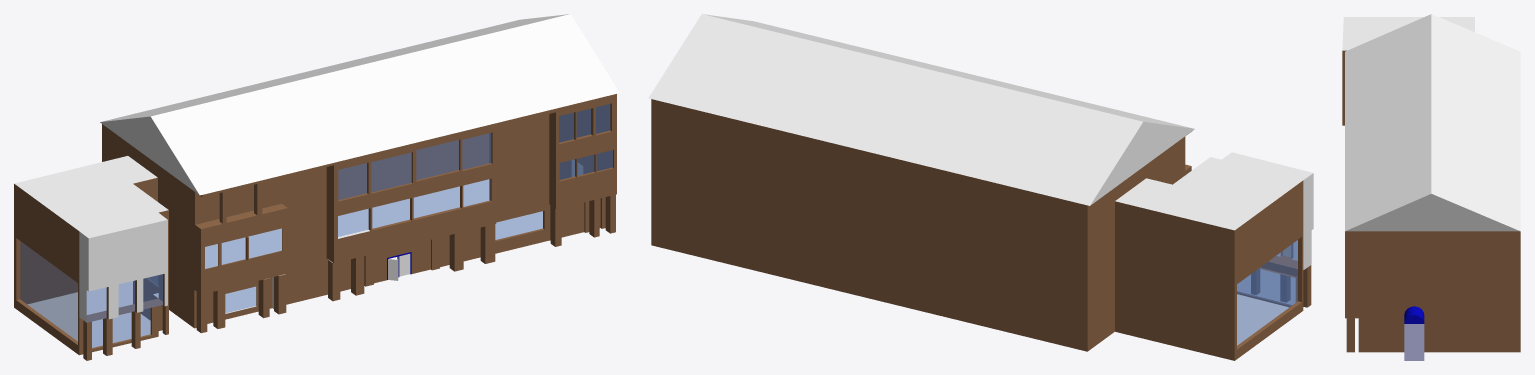
File: neu-egebaude.obj
3 views of the same model, side by side, from view 1: azimuth 30°, elevation 25°; view 2: azimuth 150°, elevation 25°; view 3: azimuth 270°, elevation 25° (orthographic). The views are drawn at different scales.
Visible parts, largest first — view 1: Mesh5 Model, Mesh12 Model, Mesh11 Model, Mesh10 Model, Mesh9 Model, Mesh8 Model, Mesh6 Model; view 2: Mesh5 Model; view 3: Mesh5 Model, Mesh13 Model.
Part boxes in pixels (x1=…): Mesh5 Model: x1=14, y1=14, x2=619, y2=355; Mesh12 Model: x1=480, y1=224, x2=495, y2=263; Mesh11 Model: x1=449, y1=232, x2=463, y2=271; Mesh10 Model: x1=351, y1=256, x2=364, y2=295; Mesh9 Model: x1=328, y1=259, x2=340, y2=301; Mesh8 Model: x1=274, y1=274, x2=286, y2=314; Mesh6 Model: x1=213, y1=289, x2=225, y2=328; Mesh5 Model: x1=648, y1=14, x2=1313, y2=360; Mesh5 Model: x1=1342, y1=14, x2=1520, y2=360; Mesh13 Model: x1=1346, y1=318, x2=1354, y2=352.
Size of the model in its own units: 169 by 53.63 by 54.26.
